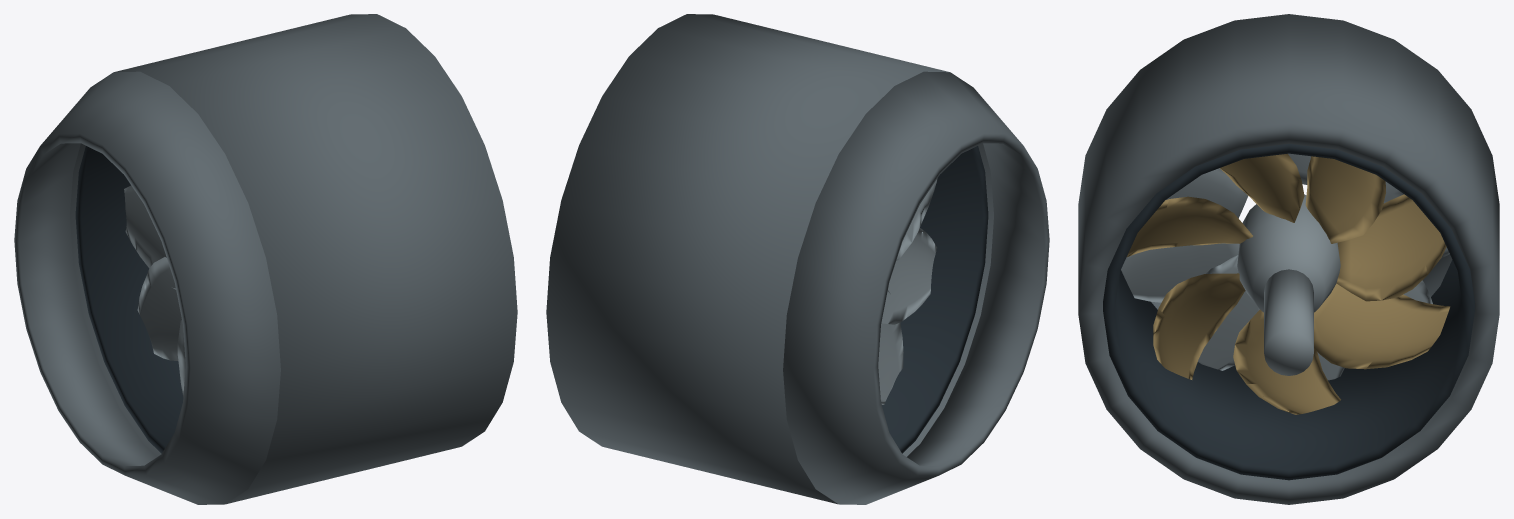
The model's file is UK_PJ_Astute_LOD1.fbx.
3 renders of one model, left to right at view 1: azimuth 30°, elevation 25°; view 2: azimuth 150°, elevation 25°; view 3: azimuth 270°, elevation 25°, orthographic. The views are drawn at different scales.
Parts seen in each view (by area): view 1: UK_PJ_Astute_LOD1_Housing.001, UK_PJ_Astute_LOD1_Nozzle.001, UK_PJ_Astute_LOD1_Lining.001, UK_PJ_Astute_LOD1_Stator_08.001, UK_PJ_Astute_LOD1_Stator_00.001; view 2: UK_PJ_Astute_LOD1_Housing.001, UK_PJ_Astute_LOD1_Nozzle.001, UK_PJ_Astute_LOD1_Lining.001, UK_PJ_Astute_LOD1_Stator_05.001, UK_PJ_Astute_LOD1_Stator_06.001, UK_PJ_Astute_LOD1_Stator_04.001; view 3: UK_PJ_Astute_LOD1_Housing.001, UK_PJ_Astute_LOD1_Lining.001, UK_PJ_Astute_LOD1_Rotor_06.001, UK_PJ_Astute_LOD1_Rotor_00.001, UK_PJ_Astute_LOD1_Hub.001, UK_PJ_Astute_LOD1_Rotor_04.001, UK_PJ_Astute_LOD1_Rotor_01.001, UK_PJ_Astute_LOD1_Shaft.001, UK_PJ_Astute_LOD1_Rotor_05.001, UK_PJ_Astute_LOD1_Rotor_03.001, UK_PJ_Astute_LOD1_Stator_05.001, UK_PJ_Astute_LOD1_Rotor_02.001 (+3 smaller).
Part boxes in pixels (x1=…): UK_PJ_Astute_LOD1_Housing.001: x1=70, y1=14, x2=517, y2=504; UK_PJ_Astute_LOD1_Nozzle.001: x1=14, y1=71, x2=280, y2=504; UK_PJ_Astute_LOD1_Lining.001: x1=75, y1=146, x2=183, y2=453; UK_PJ_Astute_LOD1_Stator_08.001: x1=137, y1=257, x2=181, y2=360; UK_PJ_Astute_LOD1_Stator_00.001: x1=124, y1=185, x2=175, y2=289; UK_PJ_Astute_LOD1_Housing.001: x1=546, y1=14, x2=993, y2=504; UK_PJ_Astute_LOD1_Nozzle.001: x1=783, y1=71, x2=1049, y2=504; UK_PJ_Astute_LOD1_Lining.001: x1=882, y1=146, x2=988, y2=453; UK_PJ_Astute_LOD1_Stator_05.001: x1=881, y1=228, x2=936, y2=324; UK_PJ_Astute_LOD1_Stator_06.001: x1=878, y1=290, x2=903, y2=404; UK_PJ_Astute_LOD1_Stator_04.001: x1=896, y1=178, x2=937, y2=260; UK_PJ_Astute_LOD1_Housing.001: x1=1078, y1=14, x2=1499, y2=504; UK_PJ_Astute_LOD1_Lining.001: x1=1103, y1=144, x2=1474, y2=480; UK_PJ_Astute_LOD1_Rotor_06.001: x1=1314, y1=283, x2=1450, y2=369; UK_PJ_Astute_LOD1_Rotor_00.001: x1=1336, y1=194, x2=1446, y2=301; UK_PJ_Astute_LOD1_Hub.001: x1=1237, y1=194, x2=1340, y2=312; UK_PJ_Astute_LOD1_Rotor_04.001: x1=1153, y1=273, x2=1245, y2=379; UK_PJ_Astute_LOD1_Rotor_01.001: x1=1305, y1=156, x2=1385, y2=243; UK_PJ_Astute_LOD1_Shaft.001: x1=1264, y1=269, x2=1313, y2=375; UK_PJ_Astute_LOD1_Rotor_05.001: x1=1233, y1=309, x2=1340, y2=414; UK_PJ_Astute_LOD1_Rotor_03.001: x1=1126, y1=196, x2=1252, y2=257; UK_PJ_Astute_LOD1_Stator_05.001: x1=1121, y1=243, x2=1239, y2=302; UK_PJ_Astute_LOD1_Rotor_02.001: x1=1220, y1=153, x2=1304, y2=222.
Bounding box in the file's own units: 554 × 550 × 550.
